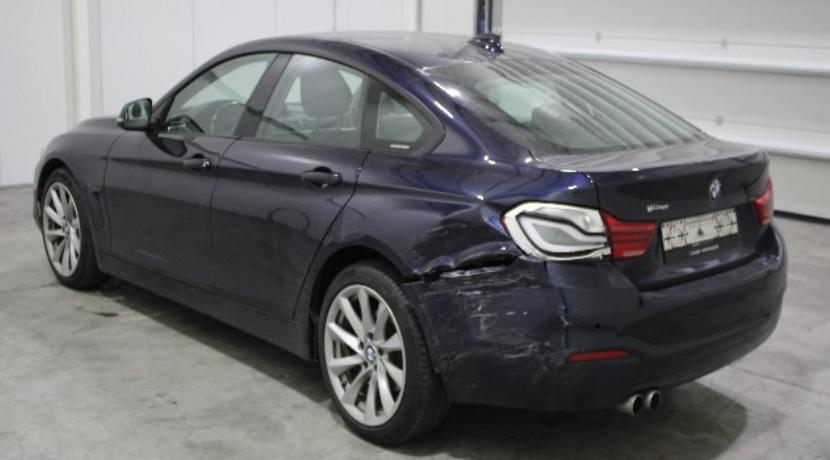Back-bumper: (403, 218, 788, 411)
Back-door: (210, 54, 376, 318)
Back-window: (254, 54, 369, 150), (371, 83, 432, 155)
Back-windshield: (423, 58, 708, 156)
Fender: (33, 118, 126, 254)
Front-door: (104, 52, 279, 294)
Front-window: (159, 53, 277, 136)
Mirror: (118, 99, 152, 131)
Quarter-panel: (292, 152, 598, 324)
Rocker-panel: (95, 251, 311, 362)
Roof: (278, 29, 572, 70)
Tail-light: (500, 202, 611, 263), (599, 211, 657, 260), (755, 174, 774, 226)
Trunk: (530, 139, 772, 290)
